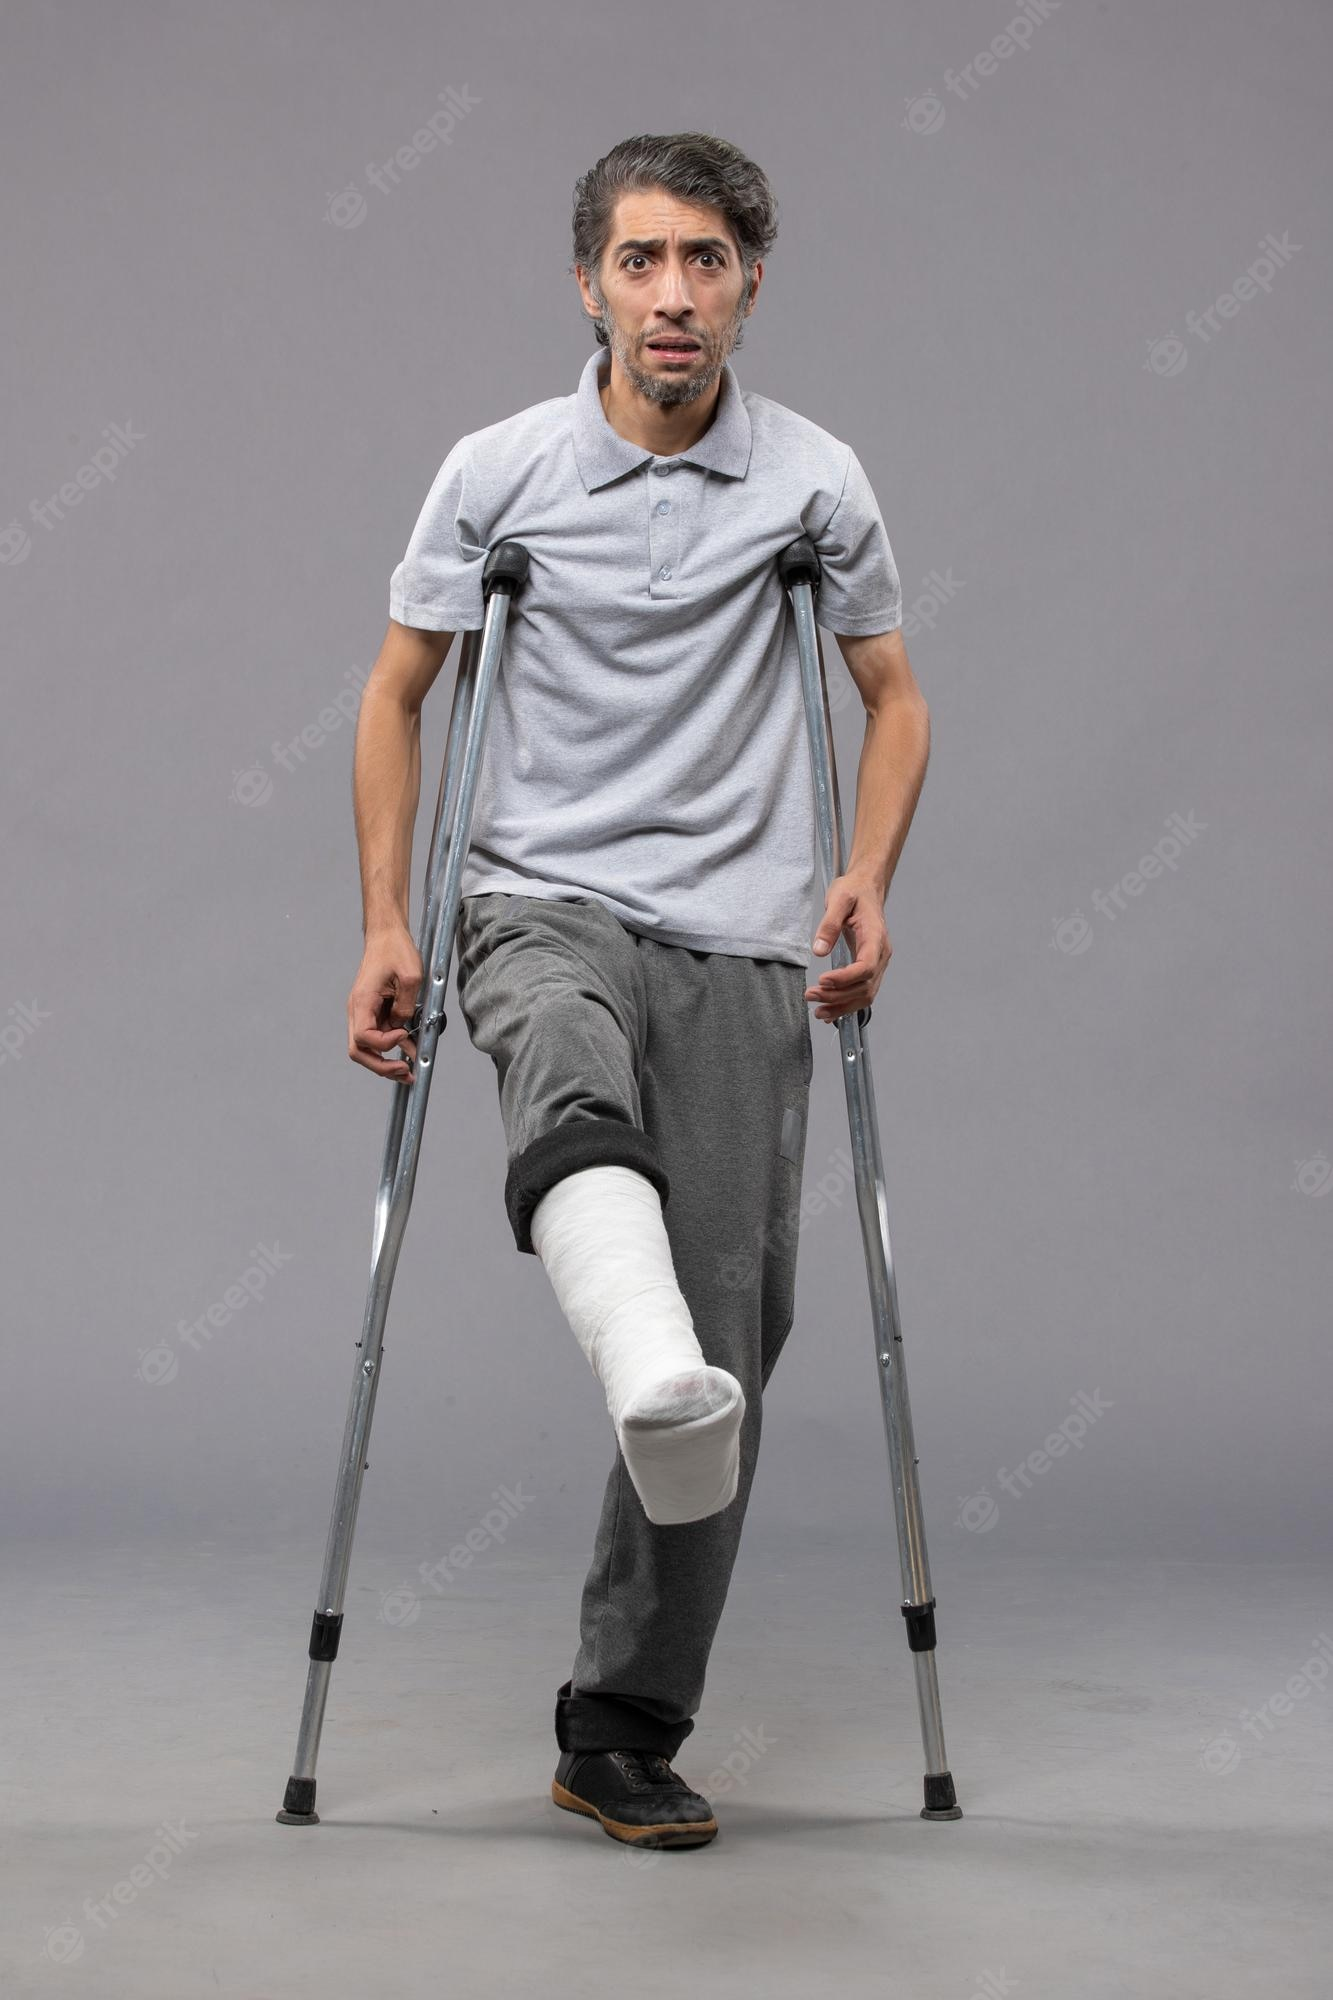crutches: (277, 138, 970, 1850)
